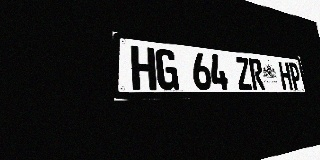4: (209, 54, 229, 90)
6: (191, 52, 212, 90)
G: (155, 48, 179, 90)
H: (131, 46, 157, 90), (278, 61, 293, 89)
P: (288, 62, 302, 89)
R: (248, 58, 265, 90)
Z: (234, 57, 253, 90)
